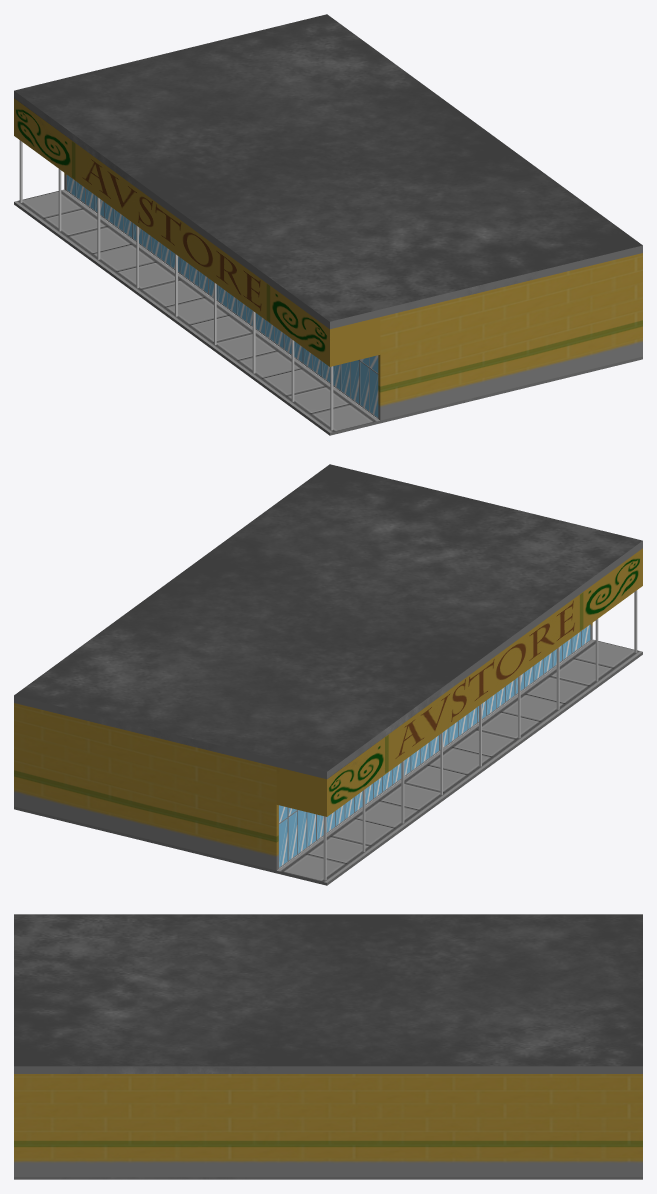
The model's file is Store1.FBX.
The picture shows the model from 3 angles, top to bottom: view 1: azimuth 30°, elevation 25°; view 2: azimuth 150°, elevation 25°; view 3: azimuth 270°, elevation 25°; orthographic projection.
Parts seen in each view (by area): view 1: AVStore:AVStore1; view 2: AVStore:AVStore1; view 3: AVStore:AVStore1.
Boxes of the visible parts, x1,y1,x2,y2 form: AVStore:AVStore1: (14,14,642,435); AVStore:AVStore1: (14,464,642,885); AVStore:AVStore1: (14,914,642,1179).
Size of the model in its own units: 174 by 60.5 by 304.
